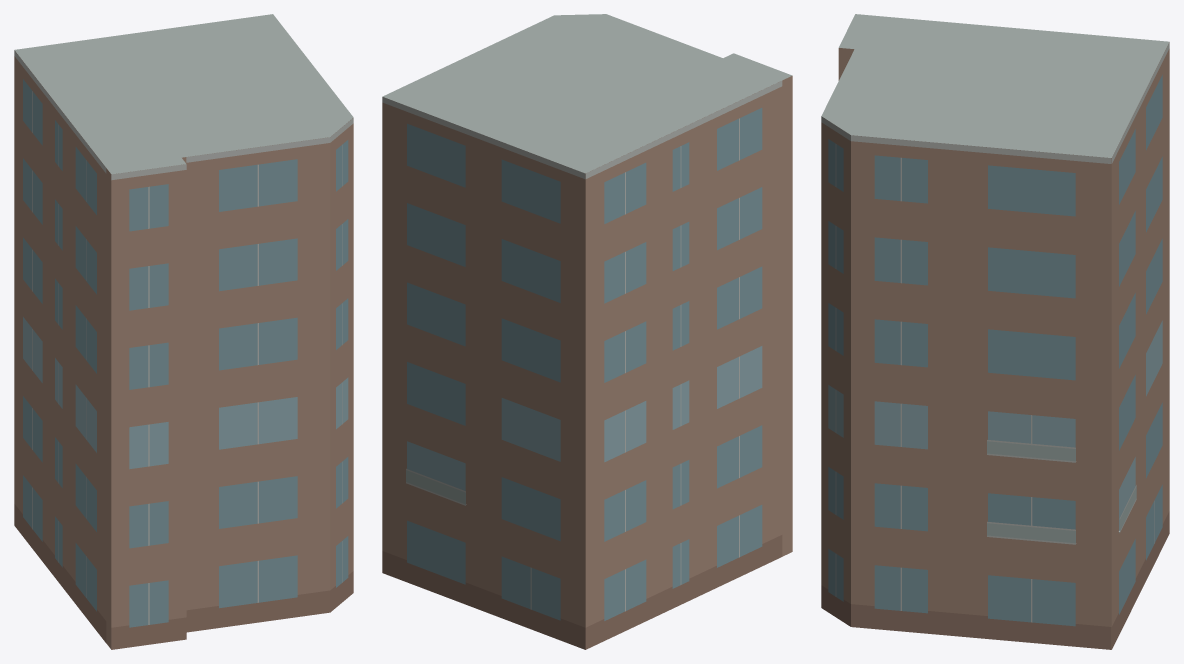
File: survey-upis-32663978.glb
3 views of the same model, side by side, from view 1: azimuth 30°, elevation 25°; view 2: azimuth 150°, elevation 25°; view 3: azimuth 270°, elevation 25° (orthographic). The views are drawn at different scales.
Visible parts, largest first — view 1: survey-upis-32663978.tmp; view 2: survey-upis-32663978.tmp; view 3: survey-upis-32663978.tmp.
Boxes of the visible parts, x1,y1,x2,y2 form: survey-upis-32663978.tmp: (14,14,353,649); survey-upis-32663978.tmp: (382,14,792,649); survey-upis-32663978.tmp: (821,14,1169,649).
Size of the model in its own units: 12.52 by 19.9 by 12.78.
